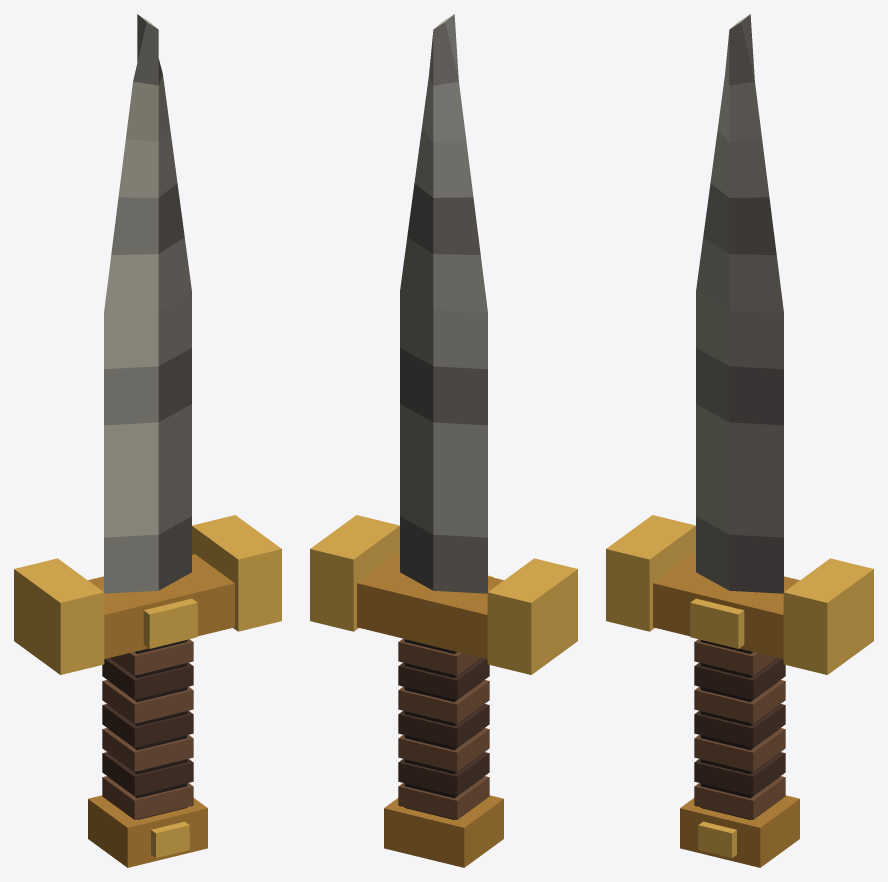
The model's file is ShortSword.fbx.
The picture shows the model from 3 angles, left to right: view 1: azimuth 30°, elevation 25°; view 2: azimuth 150°, elevation 25°; view 3: azimuth 330°, elevation 25°; orthographic projection.
Visible parts, largest first — view 1: ShortSword_Mesh; view 2: ShortSword_Mesh; view 3: ShortSword_Mesh.
Part boxes in pixels (<box>): ShortSword_Mesh: <box>14,14,281,867</box>; ShortSword_Mesh: <box>310,14,577,867</box>; ShortSword_Mesh: <box>606,14,873,867</box>.
Size of the model in its own units: 0.289 by 1.03 by 0.1105.
